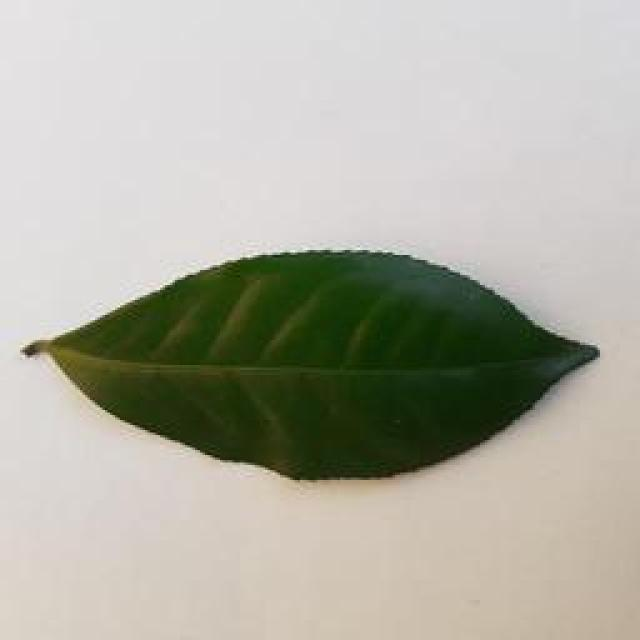Healthy: (16, 239, 605, 487)
